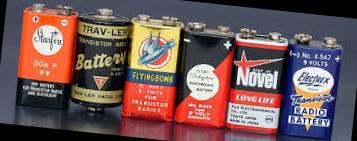battery: (0, 0, 83, 114), (114, 4, 187, 132), (223, 20, 294, 141), (60, 0, 134, 114), (170, 14, 239, 136), (276, 26, 348, 141)
